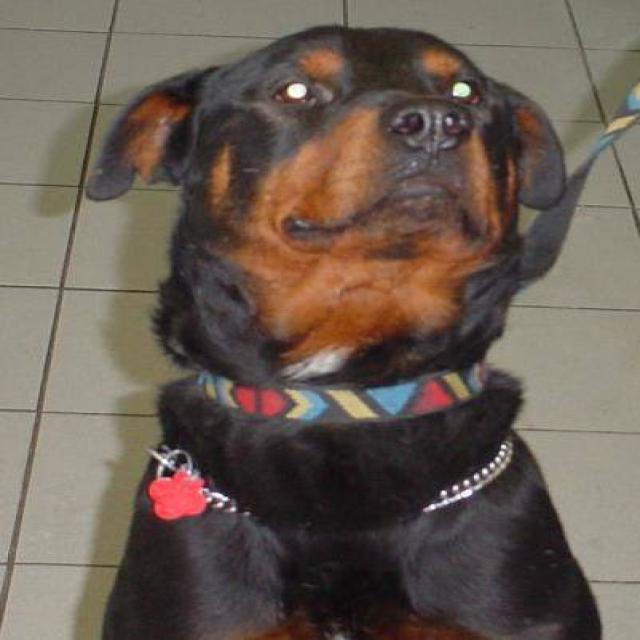Dog: (83, 4, 570, 382)
